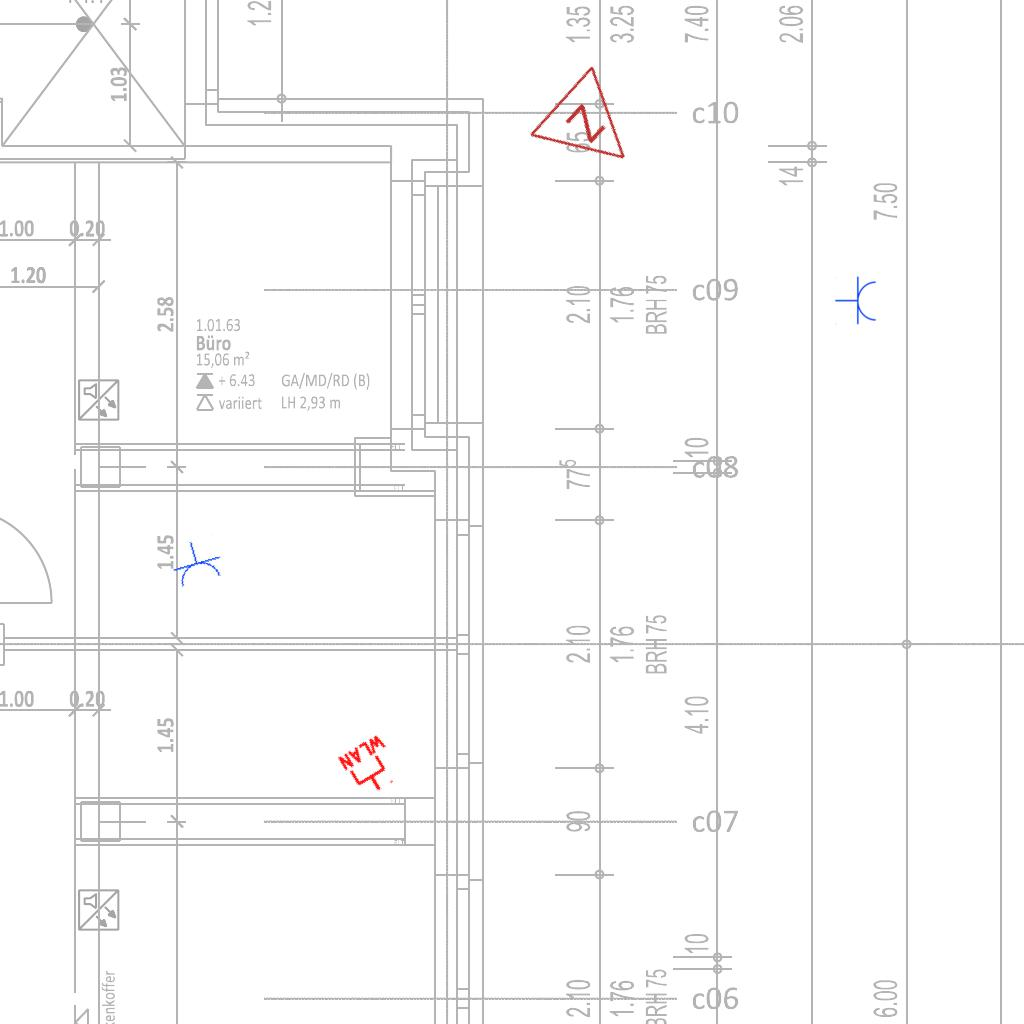Schukosteckdose_einfach: (166, 534, 226, 591), (835, 276, 878, 326)
WLAN: (335, 731, 407, 803)
Zimmersignalleuchte: (523, 58, 663, 198)
